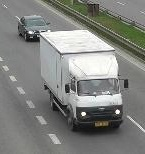truck: (39, 30, 122, 131)
